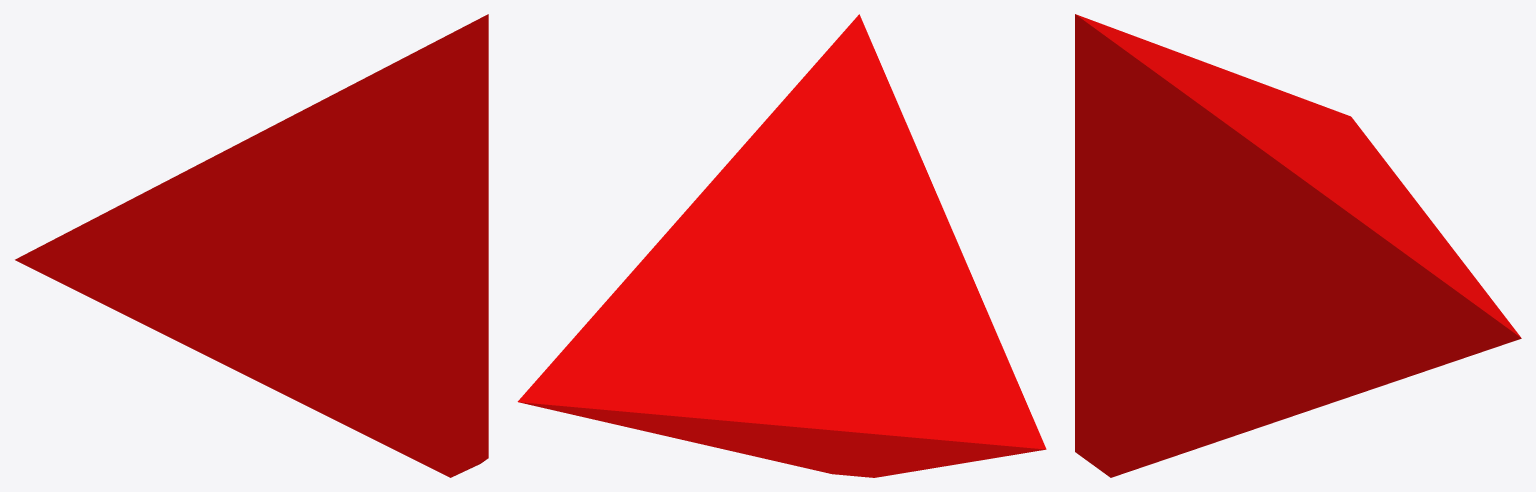
Rendered from Shard_RED 1.fbx.
3 views of the same model, side by side, from view 1: azimuth 30°, elevation 25°; view 2: azimuth 150°, elevation 25°; view 3: azimuth 270°, elevation 25° (orthographic). The views are drawn at different scales.
Visible parts, largest first — view 1: Icosphere.004; view 2: Icosphere.004; view 3: Icosphere.004.
Boxes of the visible parts, bbox=[...] form: Icosphere.004: bbox=[15, 14, 488, 477]; Icosphere.004: bbox=[517, 14, 1046, 477]; Icosphere.004: bbox=[1075, 14, 1521, 477].
Bounding box in the file's own units: 85.06 × 96.42 × 100.
